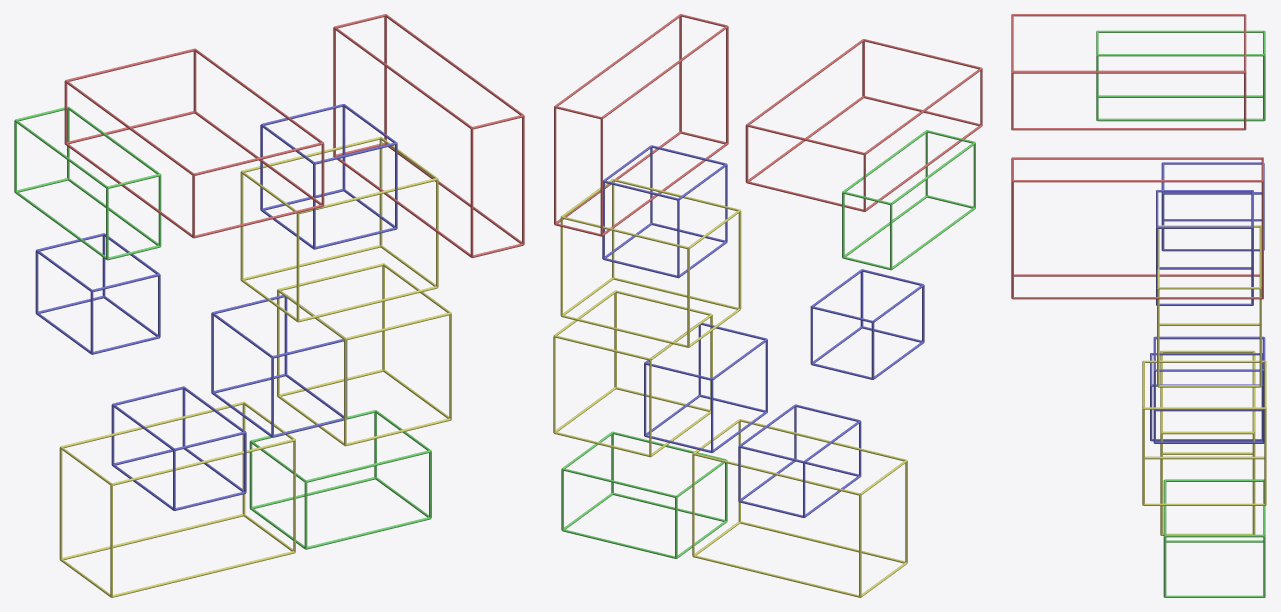
3 views of the same model, side by side, from view 1: azimuth 30°, elevation 25°; view 2: azimuth 150°, elevation 25°; view 3: azimuth 270°, elevation 25° (orthographic). The views are drawn at different scales.
Parts seen in each view (by area): view 1: world; view 2: world; view 3: world.
Boxes of the visible parts, x1,y1,x2,y2 form: world: [14, 14, 524, 597]; world: [553, 14, 982, 597]; world: [1011, 14, 1266, 597].
Bounding box in the file's own units: 3.18 × 3.97 × 2.08.
